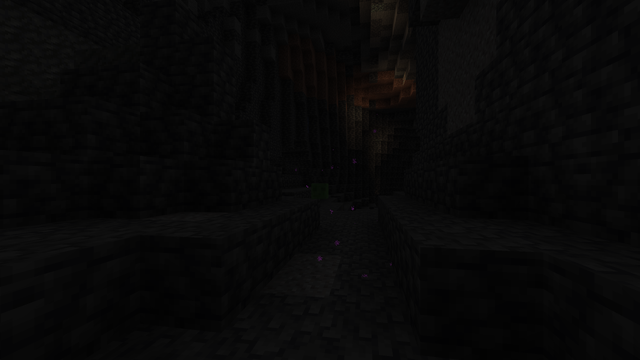slimes: (310, 182, 327, 198)
